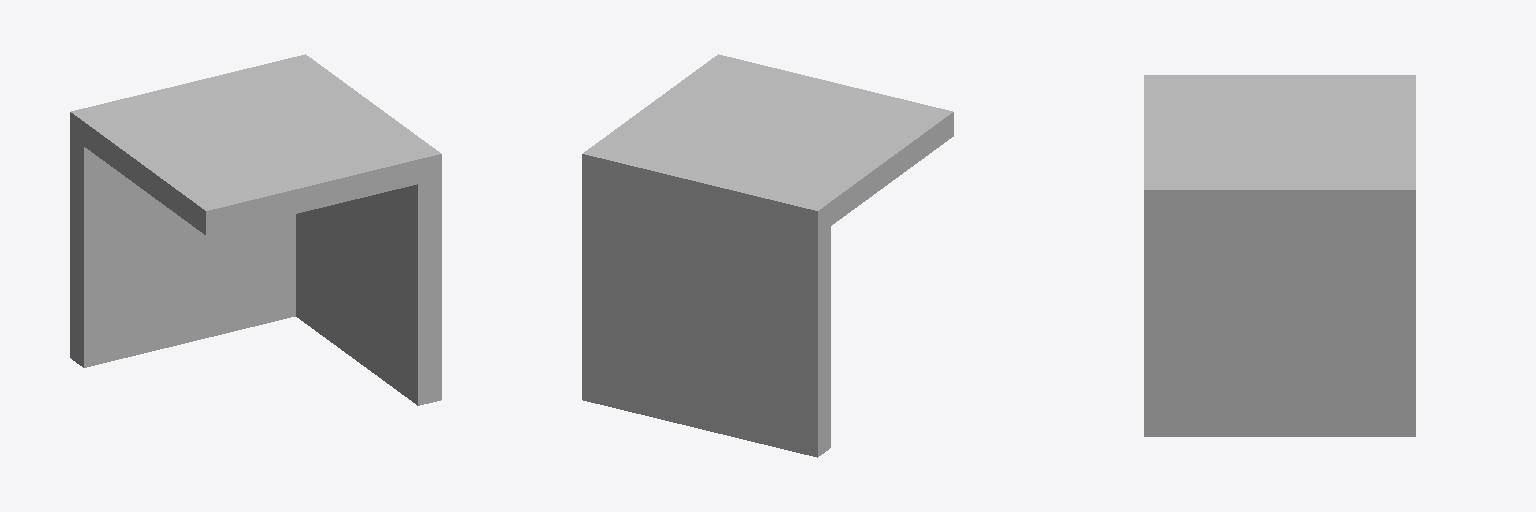
The model's file is corner.obj.
3 renders of one model, left to right at view 1: azimuth 30°, elevation 25°; view 2: azimuth 150°, elevation 25°; view 3: azimuth 270°, elevation 25°, orthographic.
Parts seen in each view (by area): view 1: Cube_Cube.001; view 2: Cube_Cube.001; view 3: Cube_Cube.001.
Part boxes in pixels (x1,y1,x2,y2): Cube_Cube.001: (70, 54, 441, 405); Cube_Cube.001: (582, 54, 953, 457); Cube_Cube.001: (1144, 75, 1415, 436).
Bounding box in the file's own units: 2 × 2 × 2.